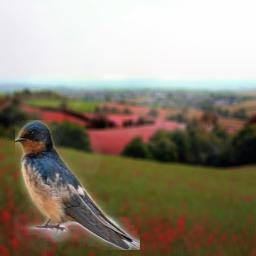Swallow: (15, 120, 140, 250)
